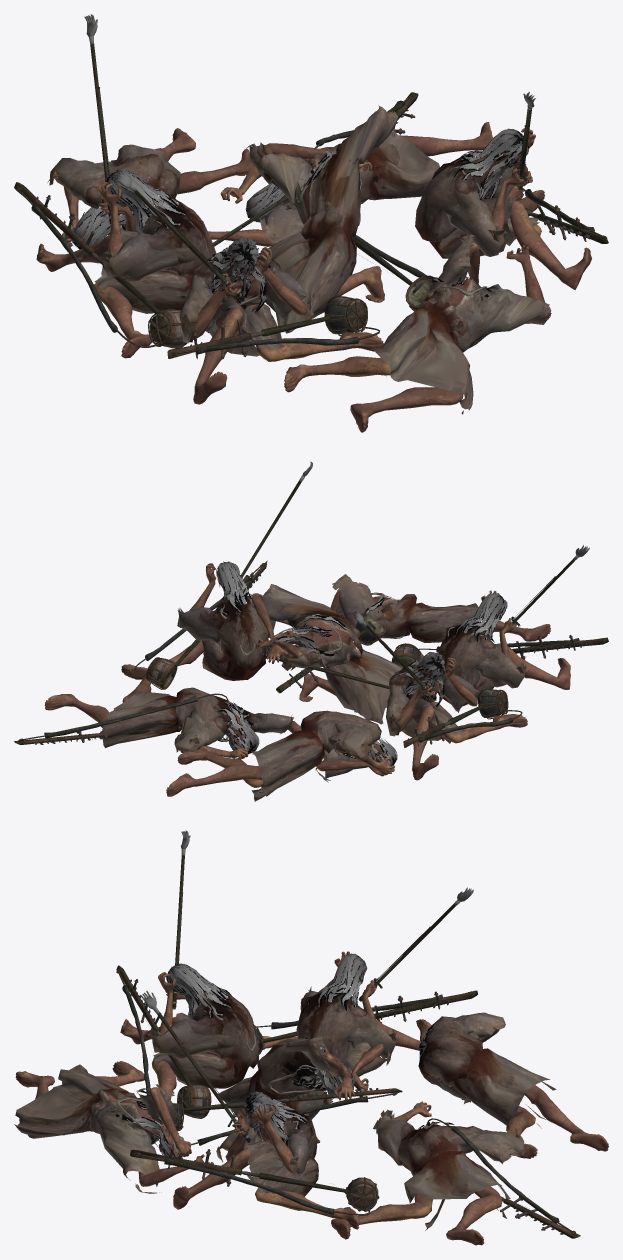
Rendered from AEG023_194out-transformed.glb.
The picture shows the model from 3 angles, top to bottom: view 1: azimuth 30°, elevation 25°; view 2: azimuth 150°, elevation 25°; view 3: azimuth 270°, elevation 25°; orthographic projection. The views are drawn at different scales.
Parts seen in each view (by area): view 1: default; view 2: default; view 3: default.
Part boxes in pixels (bbox=[...]): default: bbox=[14, 14, 608, 432]; default: bbox=[14, 461, 608, 801]; default: bbox=[14, 830, 608, 1245].
Size of the model in its own units: 3.84 by 1.65 by 4.25.
6 materials, 6 textured.
